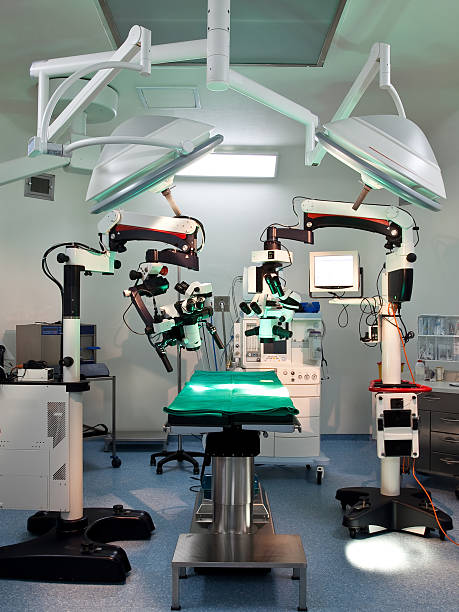bedside_monitor: (307, 252, 364, 299)
drawer: (241, 387, 329, 469), (404, 372, 459, 501)
handle: (438, 458, 457, 464), (422, 395, 441, 401), (439, 436, 458, 442), (440, 418, 459, 424)
operating_bed: (164, 371, 308, 612)
surgical_light: (86, 114, 223, 218), (314, 113, 446, 212)
utility_cart: (38, 363, 127, 465)
